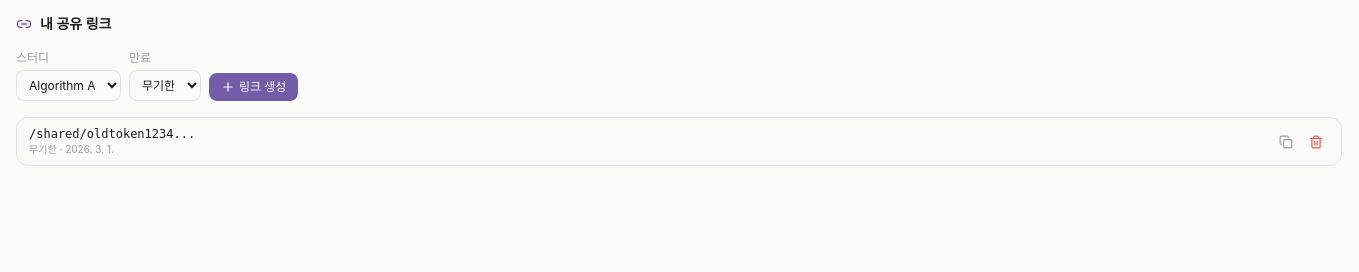
Scenario: ShareLinkManager › link creation › prepends newly created link to list
Expected: the text "/shared/oldtoken1234..." is shown, top-left (29, 127), bottom-right (195, 141)
Click the button "링크 생성".
click(254, 87)  # box top-left (209, 73), bottom-right (298, 101)
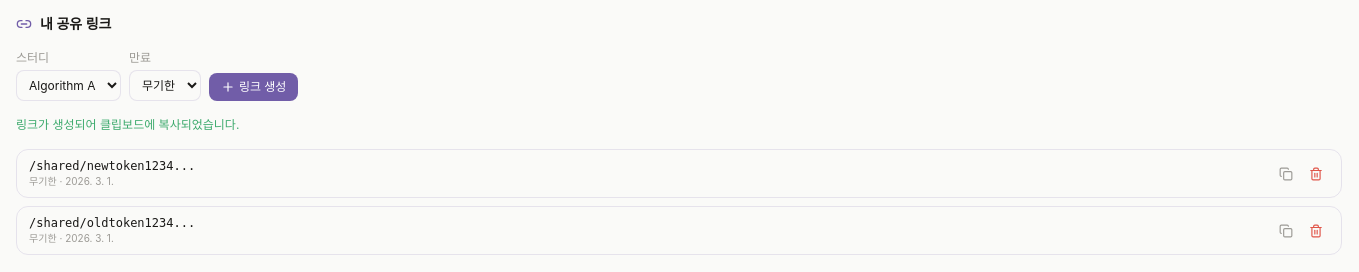
Expected: the text "/shared/oldtoken1234..." is shown, top-left (29, 216), bottom-right (195, 230)
Expected: the text "/shared/newtoken1234..." is shown, top-left (29, 159), bottom-right (195, 173)
